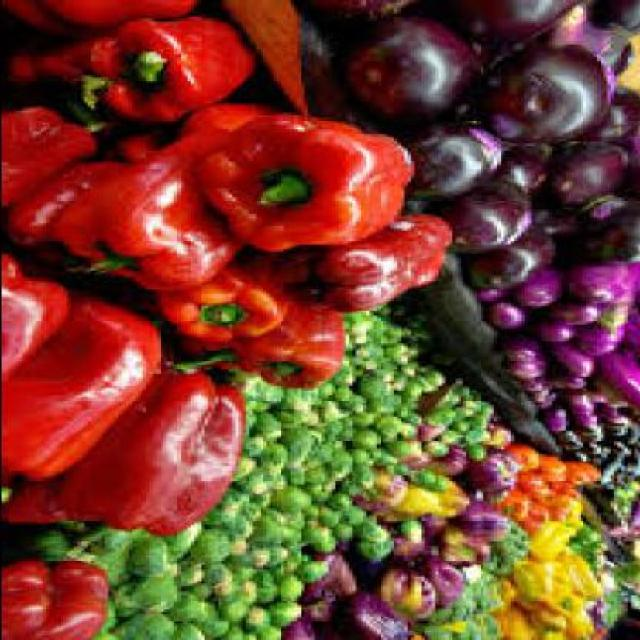BIODEGRADABLE: (59, 108, 286, 292), (4, 295, 179, 482), (55, 376, 248, 536), (204, 118, 416, 254), (4, 162, 165, 282), (89, 19, 265, 124), (275, 217, 454, 315), (327, 19, 485, 124), (265, 393, 341, 581), (472, 47, 616, 145), (155, 249, 299, 343), (4, 35, 127, 137), (205, 534, 306, 638), (251, 388, 392, 459), (4, 106, 96, 214), (413, 2, 585, 56), (3, 260, 75, 388), (238, 306, 340, 391), (3, 560, 114, 638), (3, 2, 203, 42), (362, 313, 423, 442), (409, 127, 509, 201), (533, 5, 636, 76), (441, 183, 533, 254), (472, 228, 558, 292), (340, 367, 420, 433), (544, 148, 633, 207), (331, 592, 422, 638), (361, 468, 437, 522), (560, 260, 638, 311), (584, 192, 638, 265), (568, 91, 638, 146), (524, 567, 591, 621), (345, 316, 420, 364), (3, 476, 75, 524), (299, 548, 361, 602), (303, 2, 437, 26), (172, 337, 255, 374), (381, 567, 437, 621), (413, 558, 469, 610), (481, 522, 534, 576), (502, 143, 555, 195), (104, 132, 171, 172), (604, 260, 638, 338), (598, 350, 638, 416), (512, 269, 568, 313), (465, 452, 523, 494), (403, 444, 471, 478), (114, 578, 178, 614), (564, 554, 605, 609), (526, 529, 579, 569), (533, 205, 589, 242), (461, 505, 513, 544), (440, 529, 492, 568), (461, 567, 502, 616), (275, 429, 320, 473), (423, 447, 479, 482), (568, 396, 609, 442), (575, 324, 630, 358), (417, 611, 486, 638), (588, 1, 638, 38), (72, 529, 131, 560), (595, 390, 637, 433), (547, 466, 605, 497), (440, 584, 482, 624), (433, 482, 475, 522), (547, 346, 596, 380), (550, 296, 602, 327), (108, 616, 180, 638), (128, 541, 172, 576), (203, 491, 245, 527), (189, 531, 231, 567), (596, 445, 630, 489), (529, 600, 568, 638), (497, 602, 537, 638), (492, 303, 537, 334), (268, 492, 317, 520), (574, 529, 608, 569), (35, 532, 79, 562), (520, 501, 554, 536), (282, 431, 316, 466), (544, 409, 578, 443), (255, 447, 292, 478), (505, 448, 547, 475), (172, 528, 203, 564), (254, 512, 286, 546), (599, 593, 626, 633), (599, 378, 633, 409), (248, 390, 289, 415), (276, 400, 312, 426), (495, 579, 520, 616), (562, 611, 596, 638), (512, 375, 562, 393), (496, 496, 530, 521), (306, 599, 340, 624), (558, 506, 588, 534), (282, 618, 324, 638), (520, 478, 551, 505), (364, 376, 396, 402), (509, 341, 543, 365), (513, 360, 550, 382), (488, 430, 520, 455), (364, 541, 396, 565), (476, 287, 512, 308), (417, 473, 451, 495), (537, 327, 578, 345), (612, 562, 638, 589), (618, 450, 638, 484), (618, 422, 638, 456), (402, 522, 430, 546), (589, 442, 616, 466), (362, 525, 392, 546), (540, 463, 568, 485), (626, 311, 639, 358), (547, 506, 578, 525), (423, 409, 454, 428), (416, 426, 447, 445), (386, 442, 416, 461), (530, 386, 564, 402), (462, 431, 492, 449), (178, 623, 211, 639), (468, 412, 495, 431), (348, 468, 375, 487), (423, 375, 451, 393), (560, 377, 592, 392), (561, 440, 588, 457), (450, 419, 472, 438), (375, 450, 402, 465), (475, 403, 499, 419), (447, 405, 471, 421), (351, 452, 375, 468), (340, 541, 358, 562), (344, 484, 371, 498), (344, 512, 371, 525), (468, 447, 492, 461), (327, 499, 351, 513), (571, 456, 595, 469), (477, 622, 495, 638), (458, 388, 474, 404), (533, 400, 561, 409), (612, 492, 630, 506), (618, 508, 638, 520), (630, 487, 639, 505)
